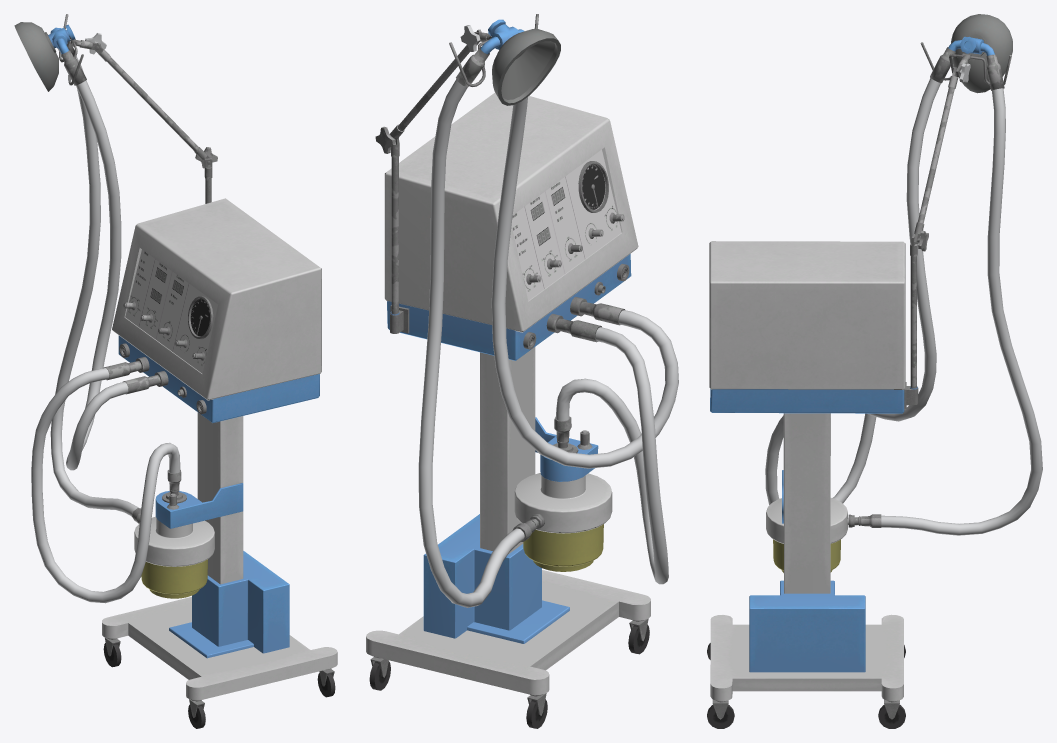
Rendered from Vantilator.glb.
3 views of the same model, side by side, from view 1: azimuth 30°, elevation 25°; view 2: azimuth 150°, elevation 25°; view 3: azimuth 270°, elevation 25° (orthographic). The views are drawn at different scales.
Parts seen in each view (by area): view 1: Vantilator; view 2: Vantilator; view 3: Vantilator.
Boxes of the visible parts, x1,y1,x2,y2 form: Vantilator: (14,14,337,728); Vantilator: (366,14,678,728); Vantilator: (707,14,1042,728).
Size of the model in its own units: 0.694 by 1.77 by 0.8609.
Materials: 1 (1 with a texture image).
